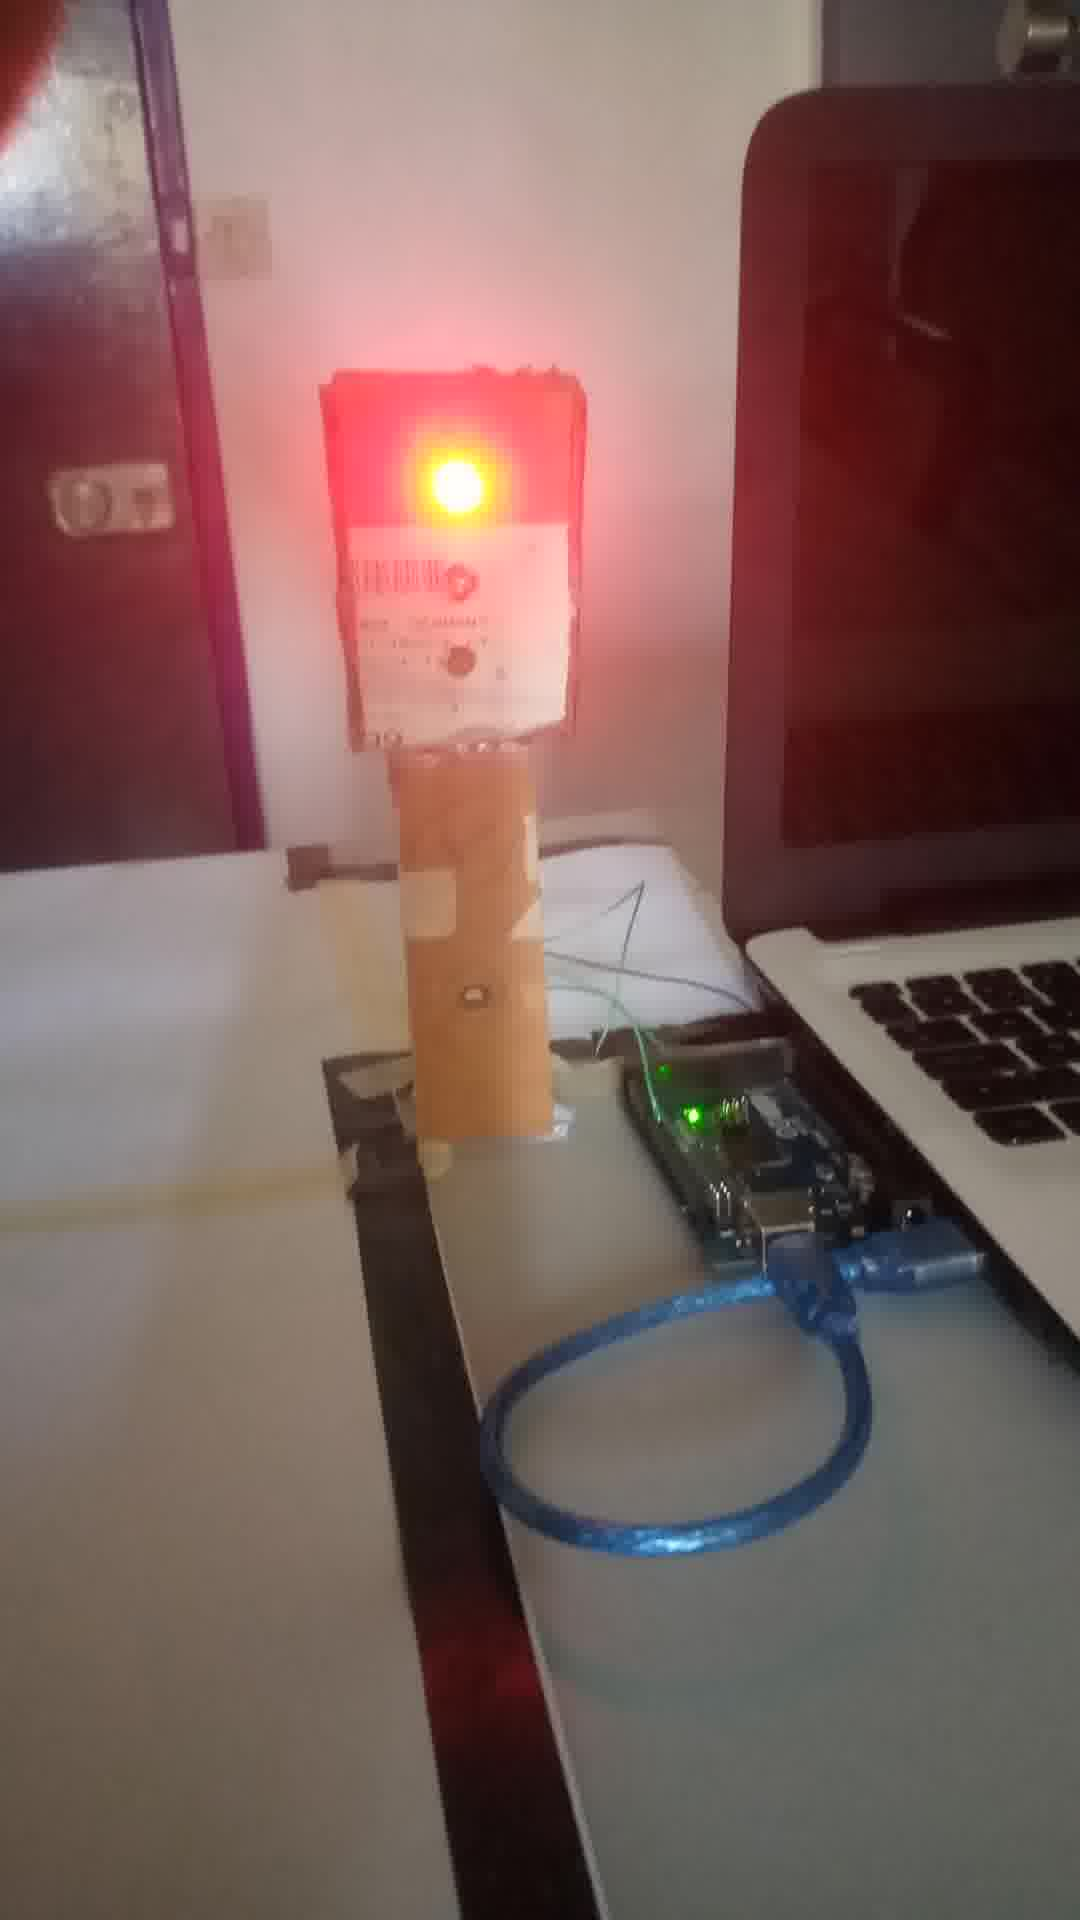red: (324, 377, 593, 754)
